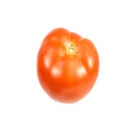tomato: (36, 28, 99, 104)
